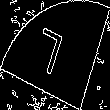L_S: (36, 26, 74, 84)
